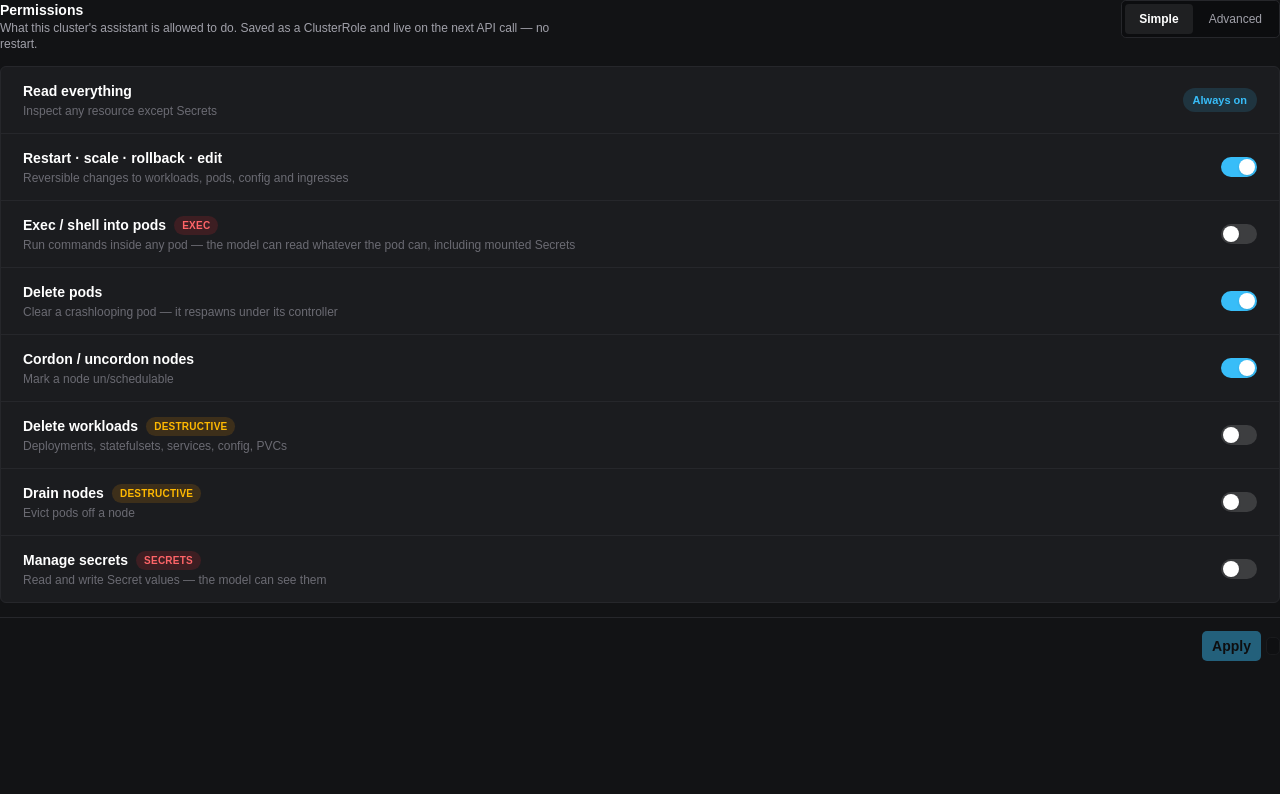
Test case: PermissionsTab › switching to Advanced swaps the view to the matrix
Expected: the text "Read everything" is shown, [23,81,132,101]
What coordinates should you click on to do the following:
click the tab "Advanced"
I would click on:
 (1235, 19)
Its box is [1195,4,1276,34].
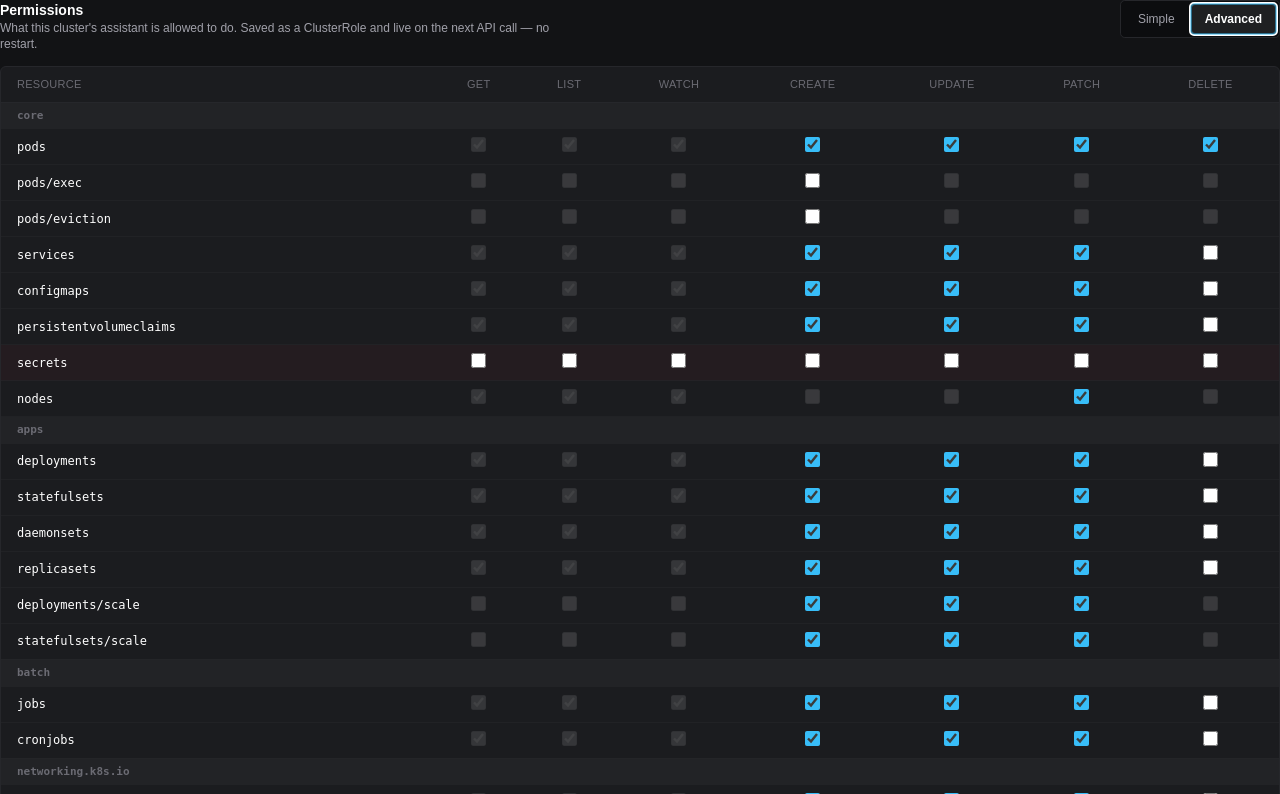
Now the column heading "get" is shown, box [434,67,523,102]
Now the text "Read everything" is gone
